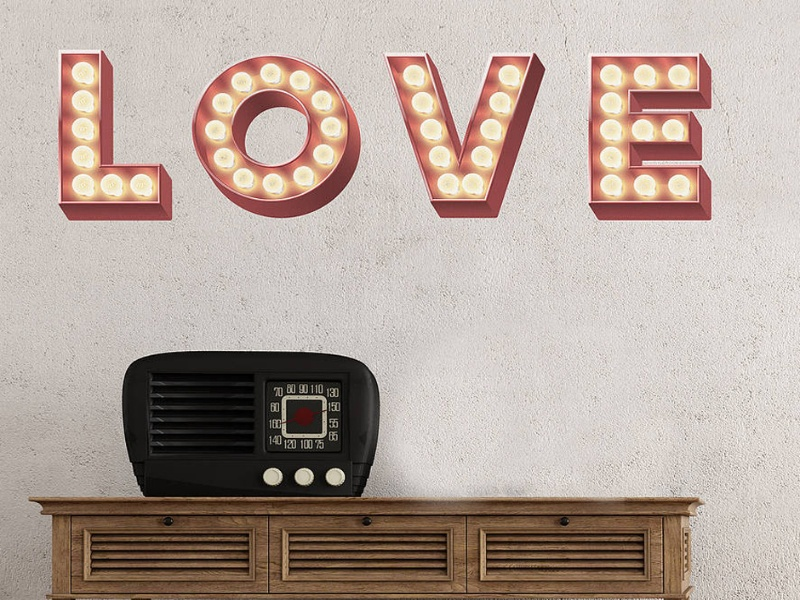letters: (380, 48, 561, 223), (580, 46, 740, 235), (27, 35, 185, 226), (190, 50, 364, 219)
